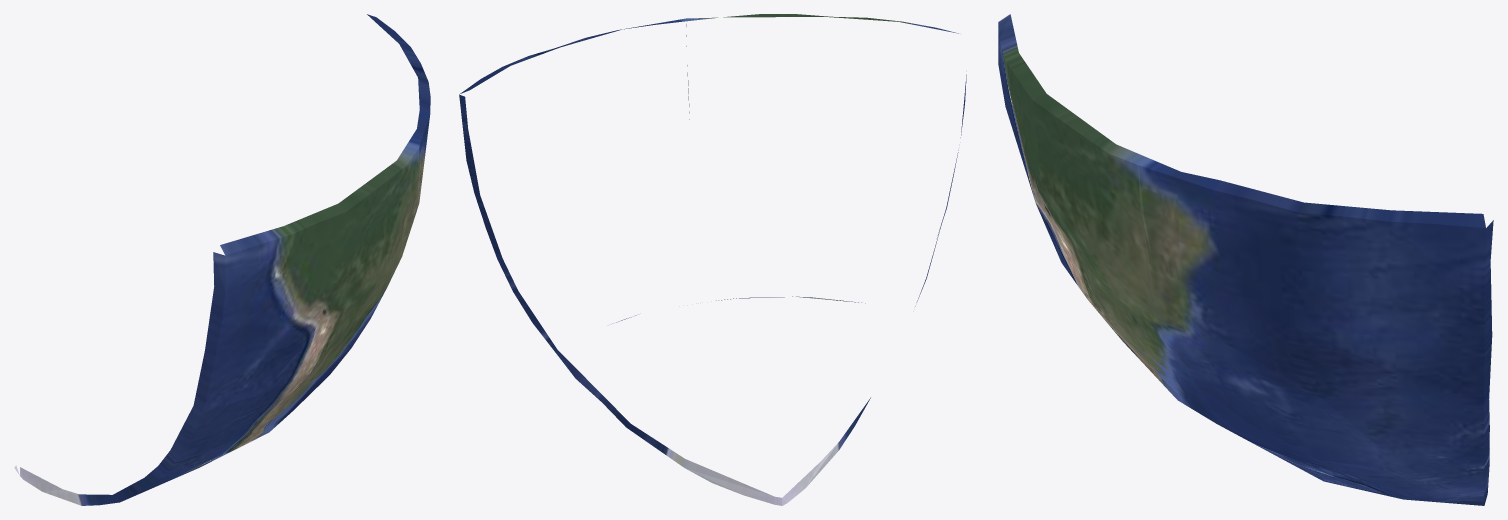
3 renders of one model, left to right at view 1: azimuth 30°, elevation 25°; view 2: azimuth 150°, elevation 25°; view 3: azimuth 270°, elevation 25°, orthographic. The views are drawn at different scales.
Size of the model in its own units: 6527880 by 6446303 by 6489337.
Materials: 1 (1 with a texture image).
